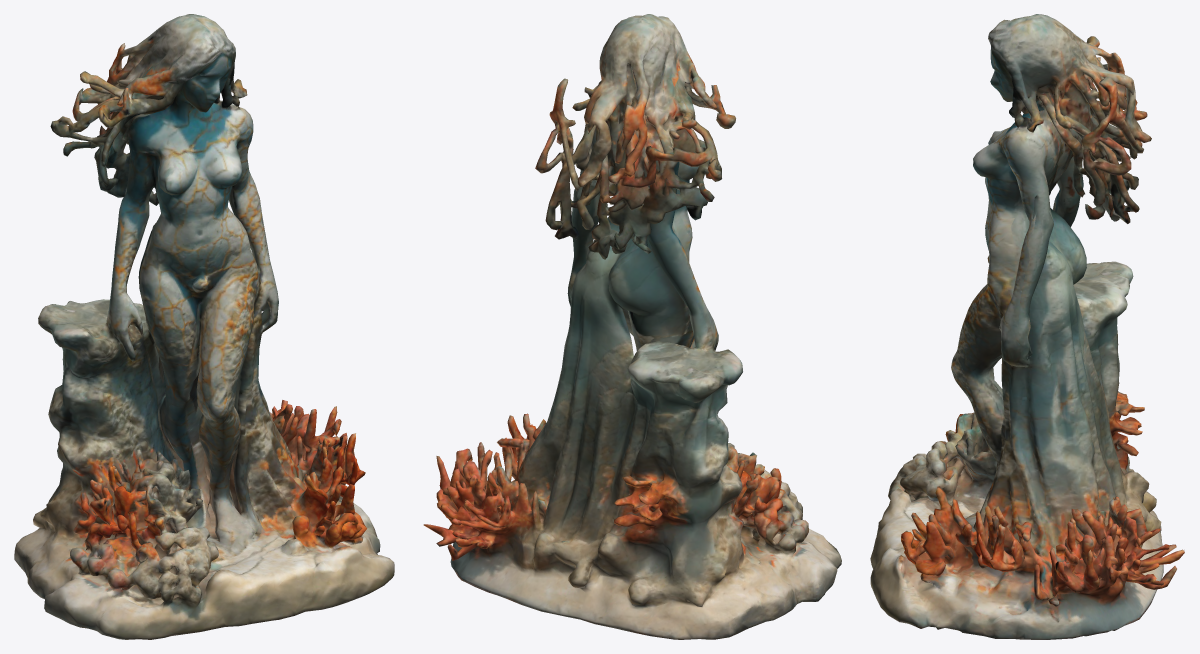
The model's file is Underwater_sculpture__1116201918_refine.fbx.
3 views of the same model, side by side, from view 1: azimuth 30°, elevation 25°; view 2: azimuth 150°, elevation 25°; view 3: azimuth 270°, elevation 25° (orthographic). The views are drawn at different scales.
Visible parts, largest first — view 1: Mesh_0; view 2: Mesh_0; view 3: Mesh_0.
Boxes of the visible parts, x1,y1,x2,y2 form: Mesh_0: [14, 14, 394, 639]; Mesh_0: [423, 14, 841, 639]; Mesh_0: [870, 14, 1184, 639].
Size of the model in its own units: 128 by 200 by 105.
Materials: 1 (1 with a texture image).
